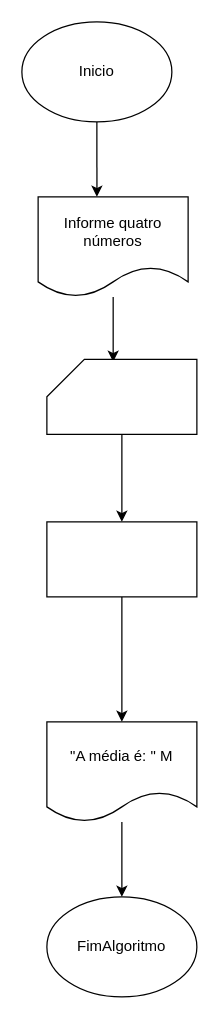
Image size: 219x1019. Some labels were removed from this diagram. The centre of each missing label's shape, as x and y in pixels:
"M <- N1,N2,N3,N4 / 4" belongs at (x=121, y=559).
"N1,N2,N3,N4" belongs at (x=121, y=396).
